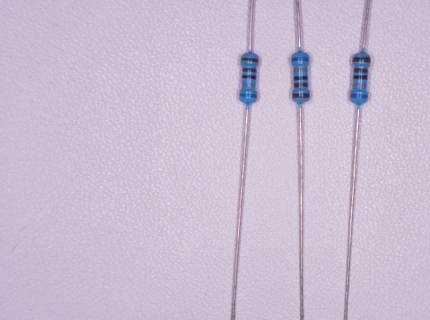Black band: (242, 75, 256, 80), (293, 76, 307, 80), (354, 76, 367, 79)
Blue band: (351, 93, 368, 98), (292, 57, 308, 61), (241, 94, 257, 97)
Brown band: (352, 57, 371, 62), (292, 93, 309, 98), (241, 58, 259, 62), (354, 69, 368, 74), (242, 68, 256, 72), (294, 83, 308, 87)
Grey band: (353, 83, 367, 87), (294, 68, 307, 72), (243, 84, 256, 87)
